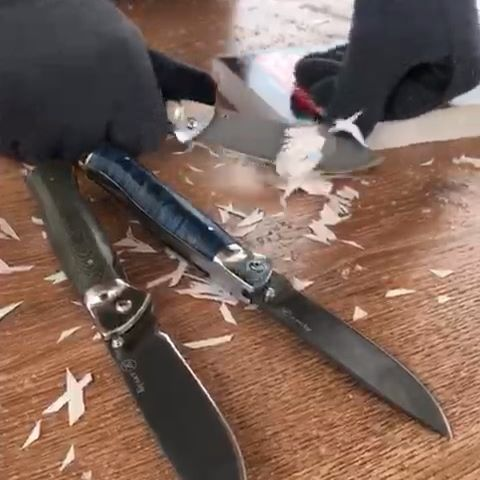knife: (79, 147, 452, 441), (27, 163, 247, 480), (164, 100, 378, 170)
